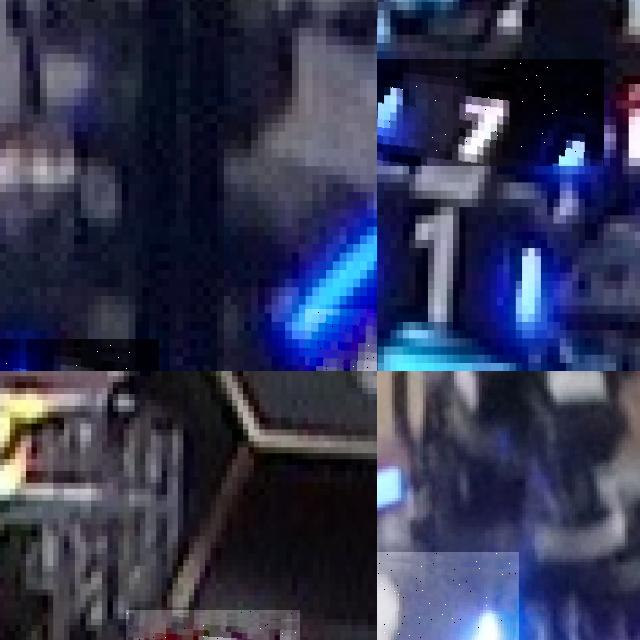B1: (377, 190, 553, 330), (377, 59, 603, 165)
B3: (377, 552, 519, 640)
R2: (126, 610, 299, 640)
